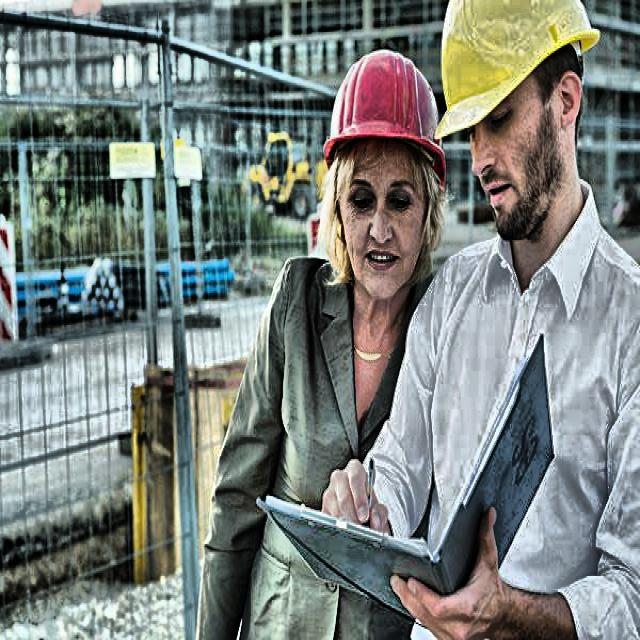helmet: (312, 22, 470, 312), (433, 0, 614, 253)
